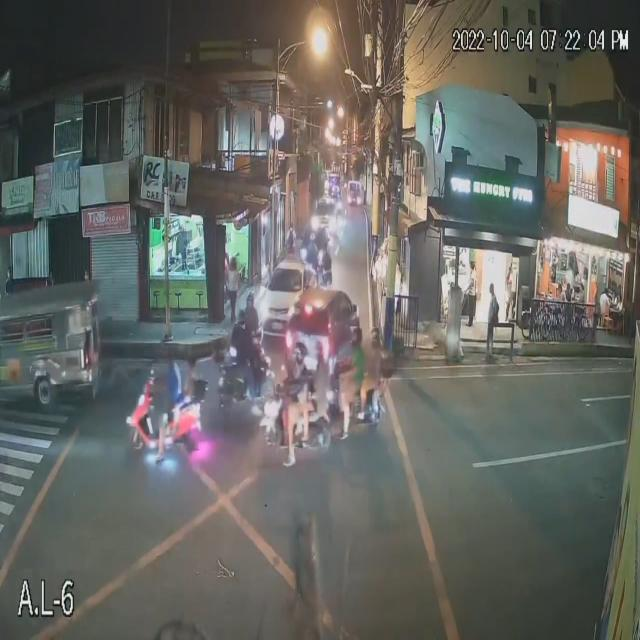Full-Faced: (308, 339, 328, 364), (292, 338, 308, 367), (365, 326, 382, 350), (349, 322, 360, 351), (236, 305, 248, 328), (245, 290, 254, 312)
Not-Wearing-Helmet: (163, 343, 177, 366)
